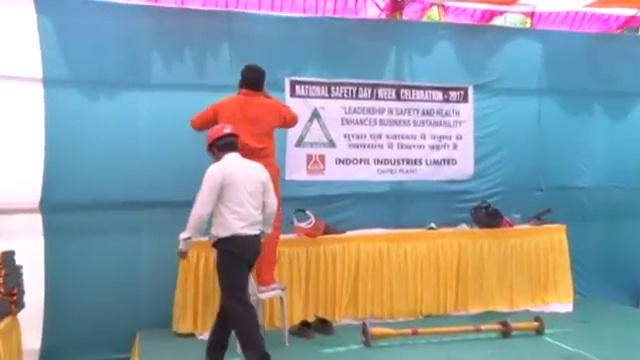helmet: (203, 123, 241, 148)
helmet_off: (237, 63, 265, 93)
helmet_on: (202, 122, 241, 164)
person: (187, 63, 299, 294), (177, 122, 279, 360)
